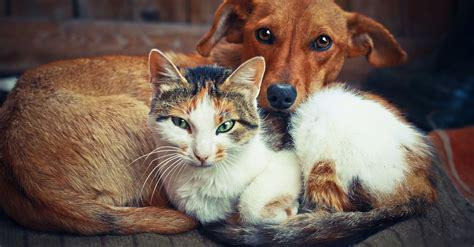cat: (150, 48, 435, 246)
dog: (1, 1, 404, 234)
